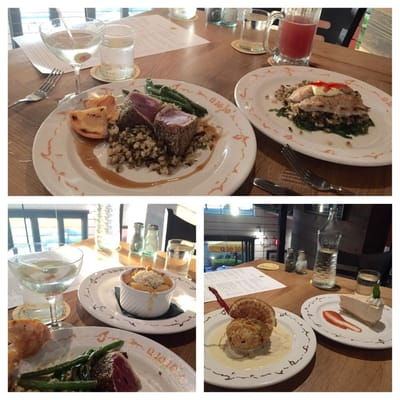burger: (10, 69, 63, 107)
pizza: (265, 8, 322, 66), (231, 10, 271, 54), (355, 268, 380, 295)
salad: (208, 286, 233, 318)
sandwich: (208, 286, 231, 316)
sushi: (118, 267, 176, 319)
